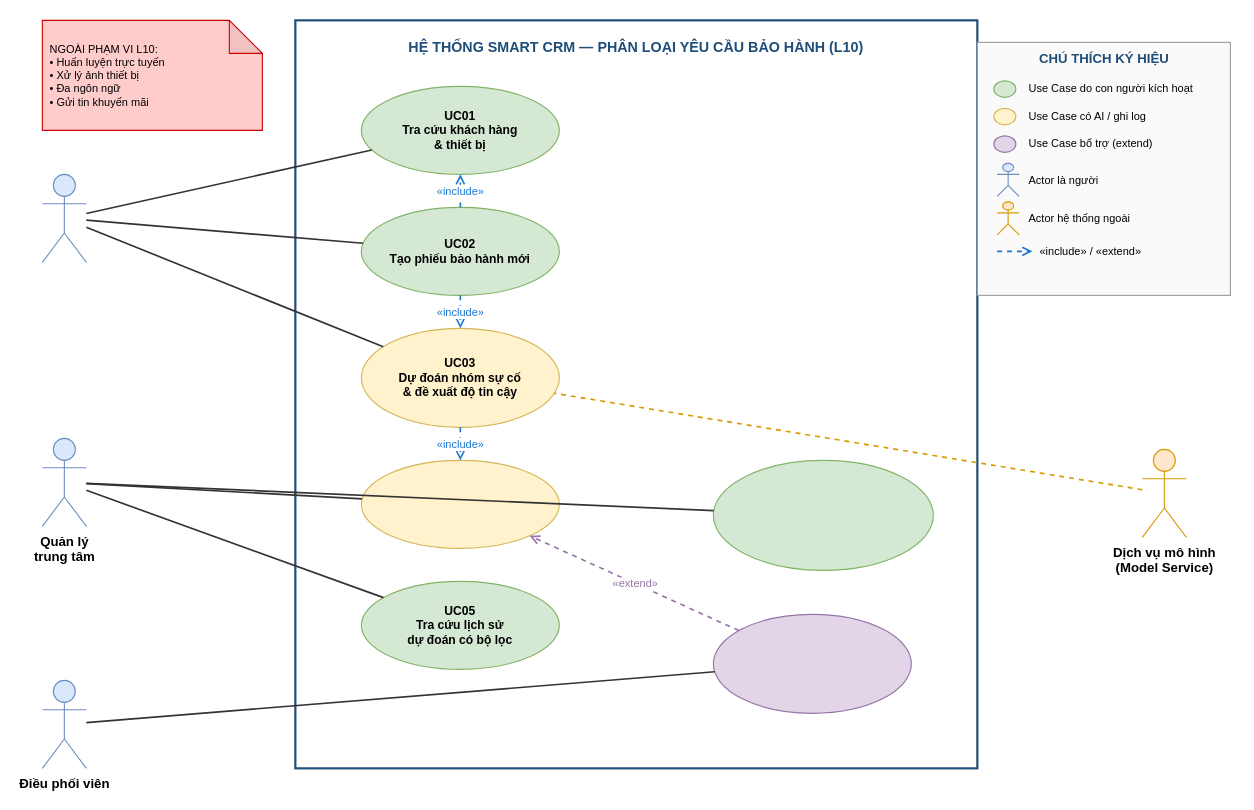
Some shapes in this 1254 by 810 pixel diagram are drawn without their labels. Here are the shapes that lost their labels. From the top down, the centre of each, then its label:
(x=63, y=217): Nhân viên tiếp nhận
(x=459, y=503): UC04 Ghi log dự đoán vào prediction_log
(x=822, y=514): UC06 Xem dashboard đánh giá chất lượng mô hình
(x=811, y=663): UC07 Gán nhãn đúng cho phiếu đã đóng
